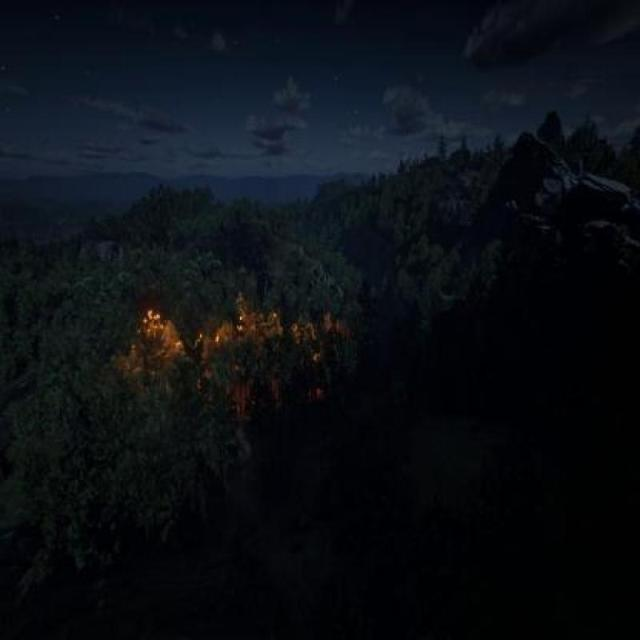Fire: (132, 290, 342, 380)
